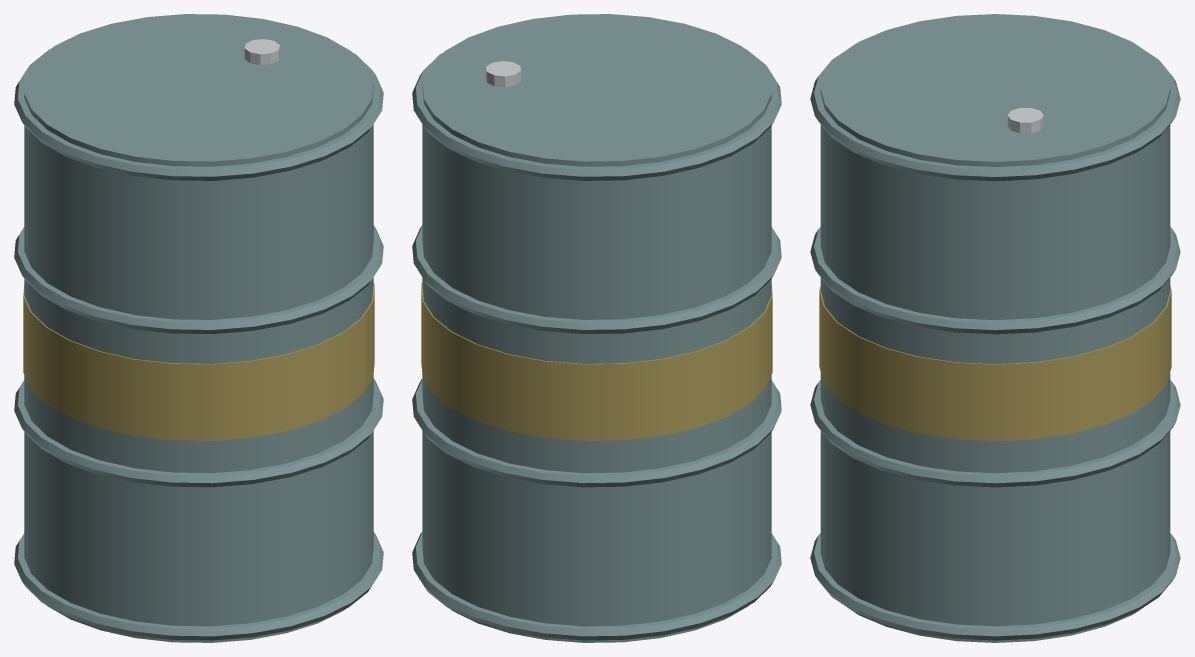
Rendered from chem_barrel.glb.
3 views of the same model, side by side, from view 1: azimuth 30°, elevation 25°; view 2: azimuth 150°, elevation 25°; view 3: azimuth 270°, elevation 25° (orthographic).
Parts seen in each view (by area): view 1: chem_barrel; view 2: chem_barrel; view 3: chem_barrel.
Boxes of the visible parts, x1,y1,x2,y2 form: chem_barrel: [14, 14, 383, 642]; chem_barrel: [412, 14, 781, 642]; chem_barrel: [810, 14, 1180, 642].
Size of what is drawn, in the model's own units: 0.614 by 0.9 by 0.614.
